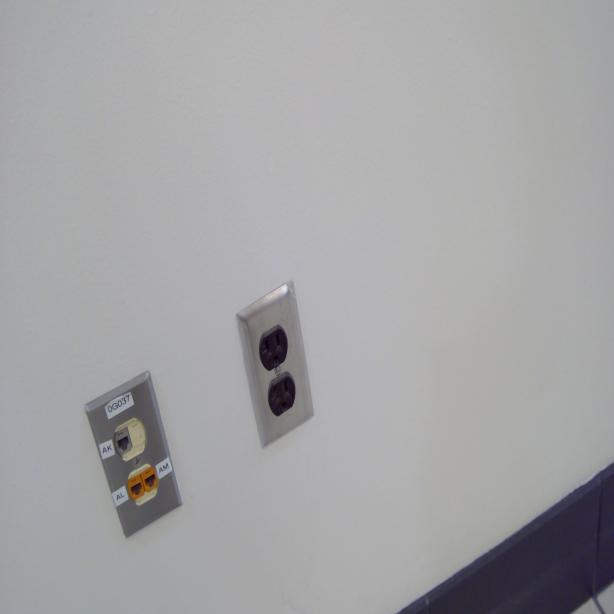typeb: (266, 374, 296, 416), (257, 327, 286, 369)
